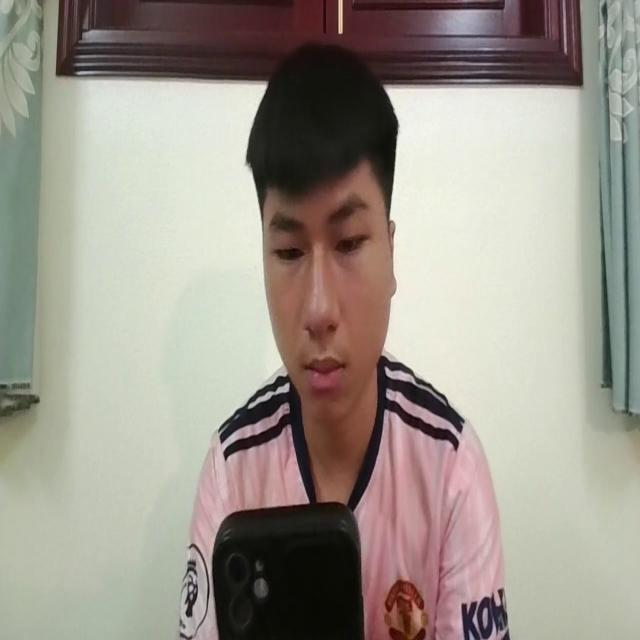phone: (213, 497, 366, 640)
student: (178, 37, 508, 640)
